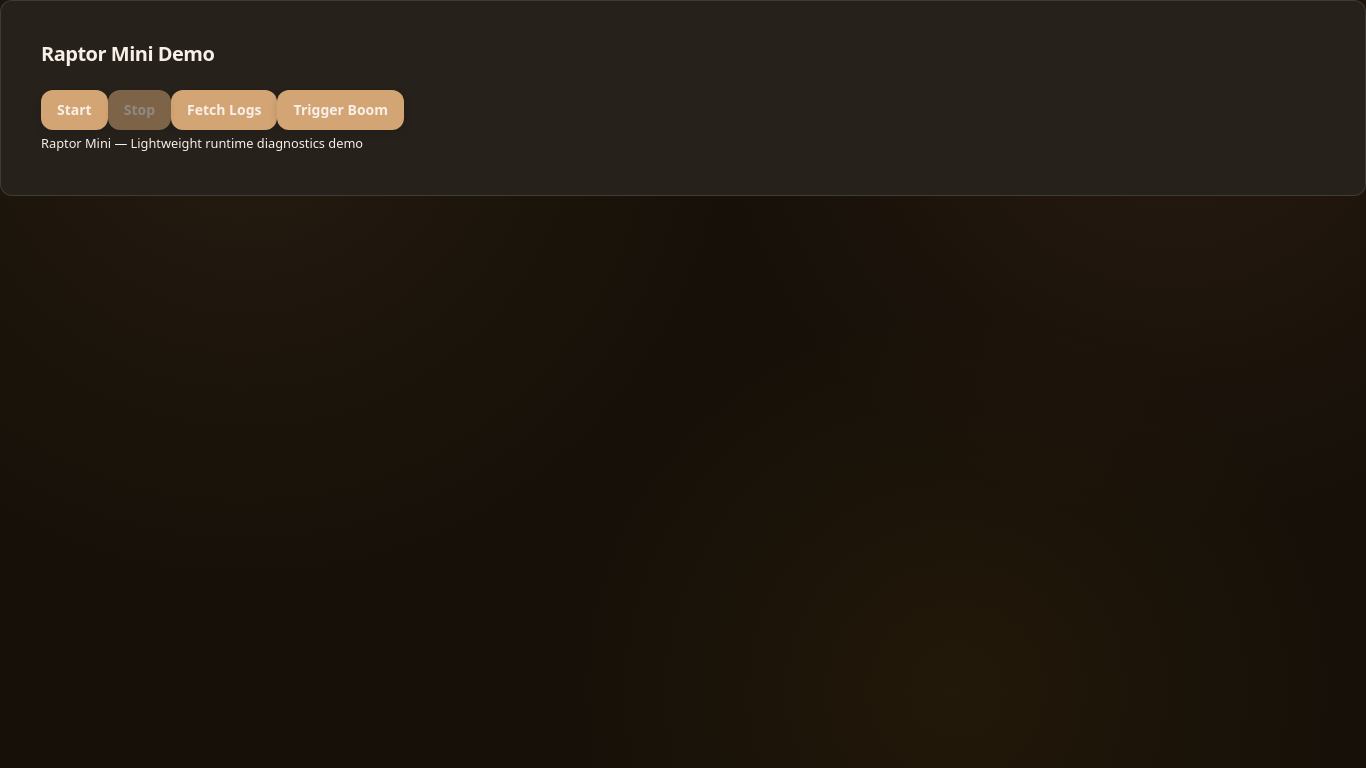
Test: RaptorMiniPanel › shows error on start failure
Click the button "Start" at (74, 110), box [41, 90, 108, 130]
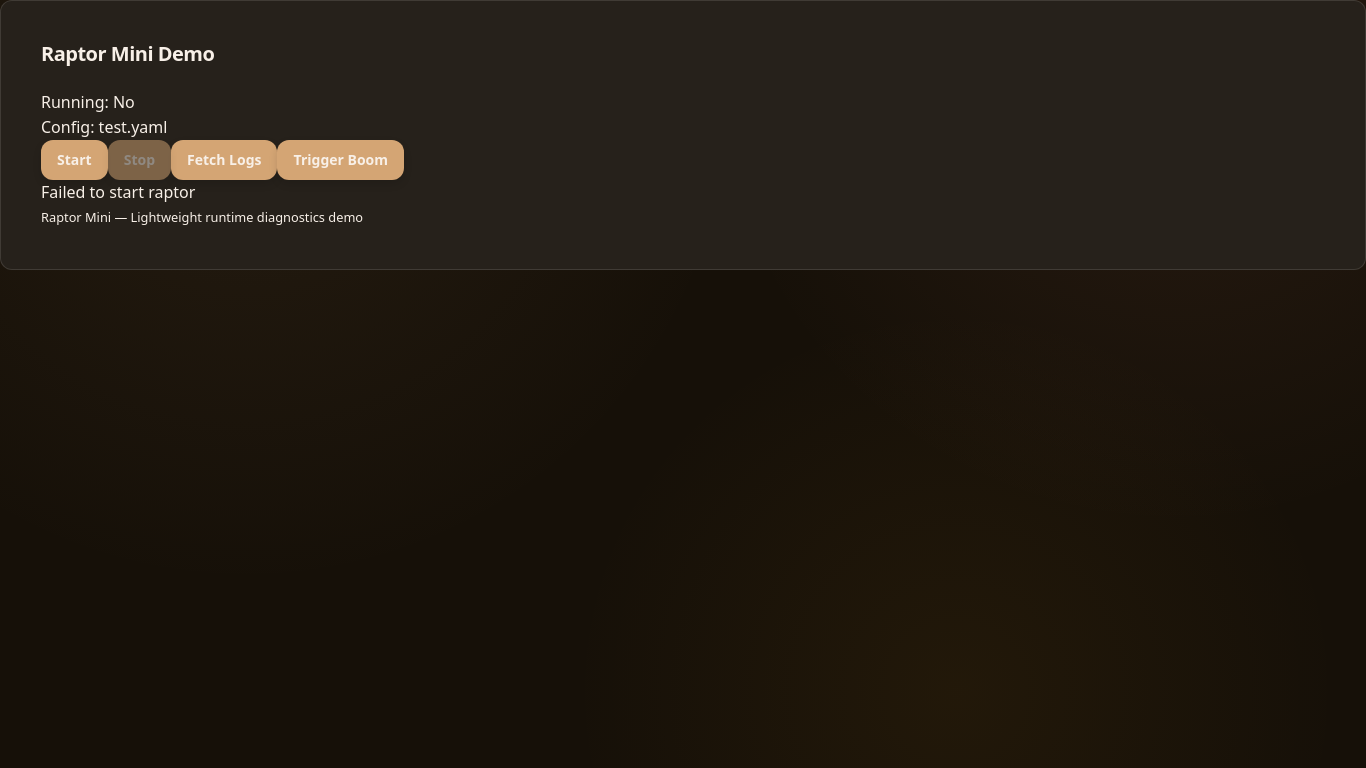
Expected: the text "Failed to start raptor" is shown, [41, 181, 195, 203]
